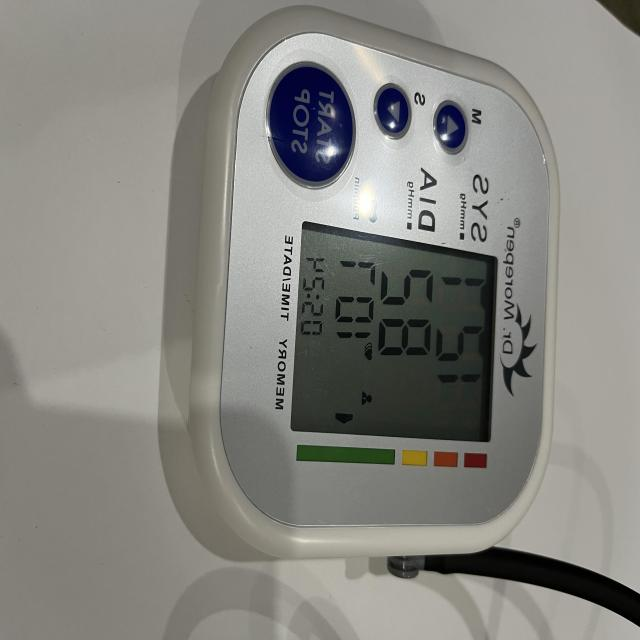bp: (147, 0, 588, 574)
